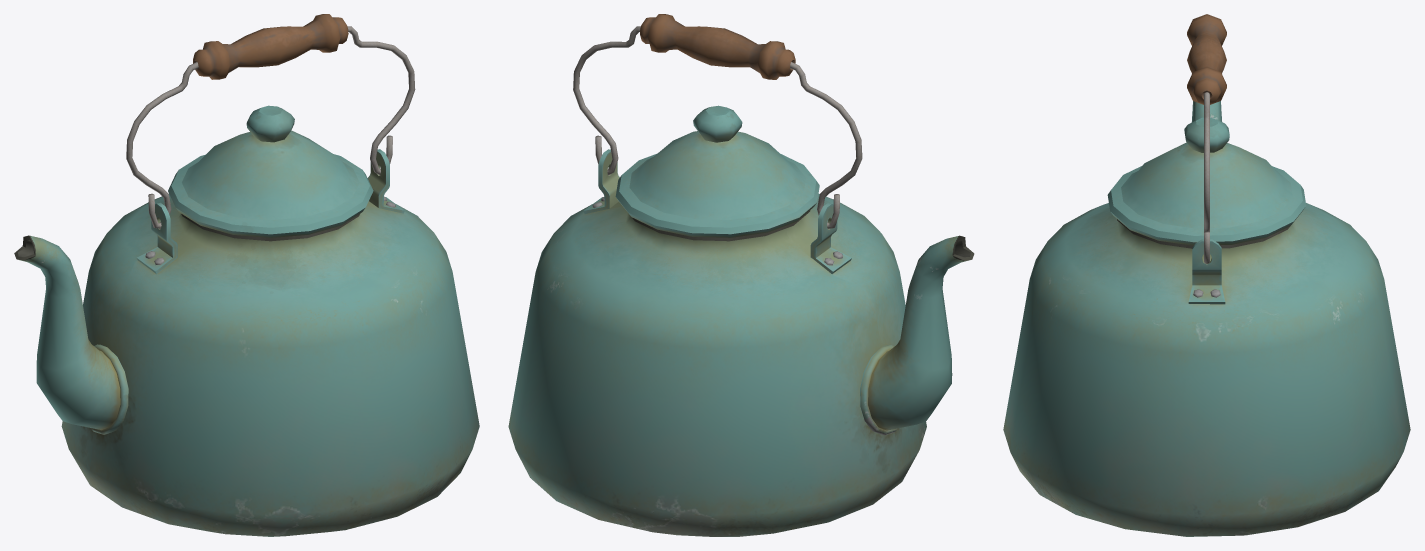
File: vintage_kettle.glb
The picture shows the model from 3 angles, left to right: view 1: azimuth 30°, elevation 25°; view 2: azimuth 150°, elevation 25°; view 3: azimuth 270°, elevation 25°; orthographic projection. The views are drawn at different scales.
Parts seen in each view (by area): view 1: Main Body_Low, Lid_Low, Nose_Low, Wooden Handle_Low, Metal Handle_Low, Bracing_Low; view 2: Main Body_Low, Lid_Low, Nose_Low, Wooden Handle_Low, Metal Handle_Low, Bracing_Low; view 3: Main Body_Low, Lid_Low, Wooden Handle_Low, Bracing_Low, Metal Handle_Low.
Part boxes in pixels (x1,y1,x2,y2): Main Body_Low: [61, 194, 479, 536]; Lid_Low: [168, 105, 373, 237]; Nose_Low: [14, 235, 128, 434]; Wooden Handle_Low: [193, 14, 348, 79]; Metal Handle_Low: [126, 26, 415, 228]; Bracing_Low: [137, 149, 404, 274]; Main Body_Low: [508, 194, 926, 536]; Lid_Low: [615, 105, 819, 237]; Nose_Low: [860, 235, 974, 435]; Wooden Handle_Low: [640, 14, 795, 79]; Metal Handle_Low: [573, 26, 862, 228]; Bracing_Low: [583, 149, 851, 273]; Main Body_Low: [1003, 203, 1410, 536]; Lid_Low: [1107, 117, 1306, 245]; Wooden Handle_Low: [1187, 14, 1226, 104]; Bracing_Low: [1188, 239, 1225, 304]; Metal Handle_Low: [1204, 92, 1209, 263].
Size of the model in its own units: 0.3277 by 0.3184 by 0.2725.
1 material, 1 textured.
